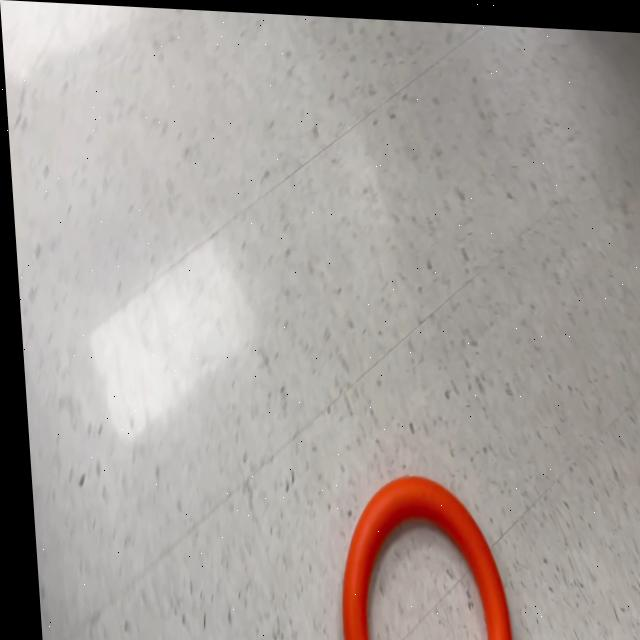note: (324, 469, 505, 640)
